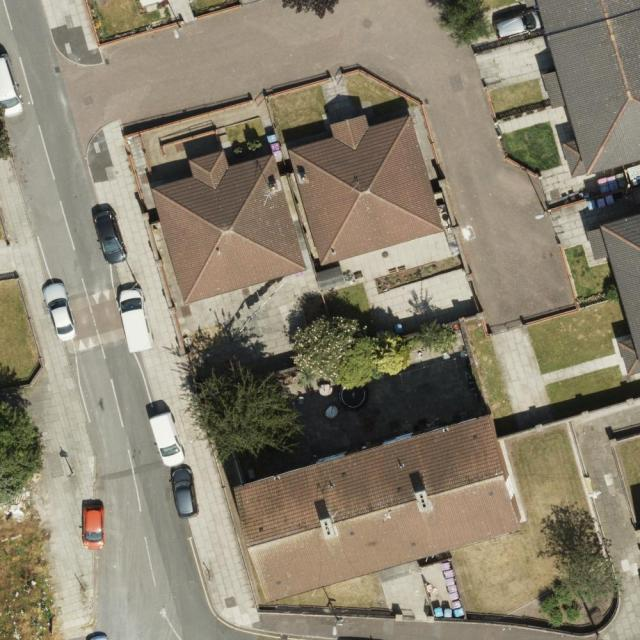roof: (231, 412, 522, 607), (287, 115, 446, 268), (151, 151, 310, 302), (538, 0, 640, 177), (585, 212, 640, 376)
